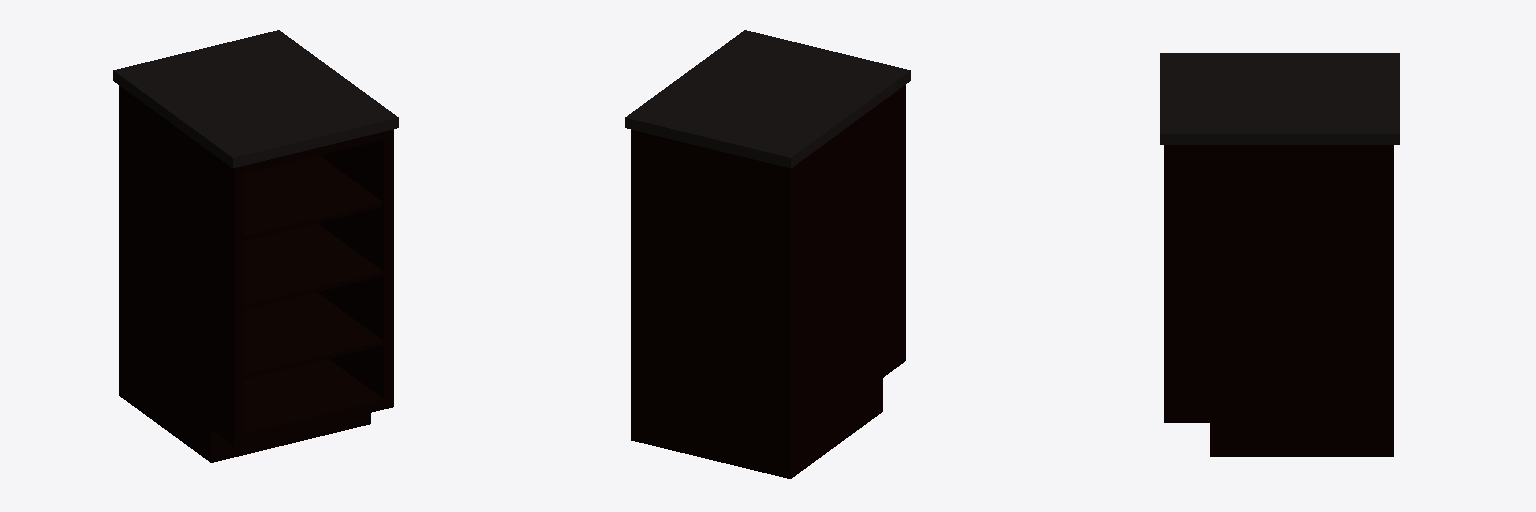
File: OpenBaseCabinet1.obj
3 views of the same model, side by side, from view 1: azimuth 30°, elevation 25°; view 2: azimuth 150°, elevation 25°; view 3: azimuth 270°, elevation 25° (orthographic).
Visible parts, largest first — view 1: OpenBaseCabinet1_Cube.002; view 2: OpenBaseCabinet1_Cube.002; view 3: OpenBaseCabinet1_Cube.002.
Part boxes in pixels (x1,y1,x2,y2): OpenBaseCabinet1_Cube.002: (113, 30, 398, 462); OpenBaseCabinet1_Cube.002: (625, 30, 910, 478); OpenBaseCabinet1_Cube.002: (1160, 53, 1399, 456).
Bounding box in the file's own units: 0.4863 × 0.9081 × 0.608.